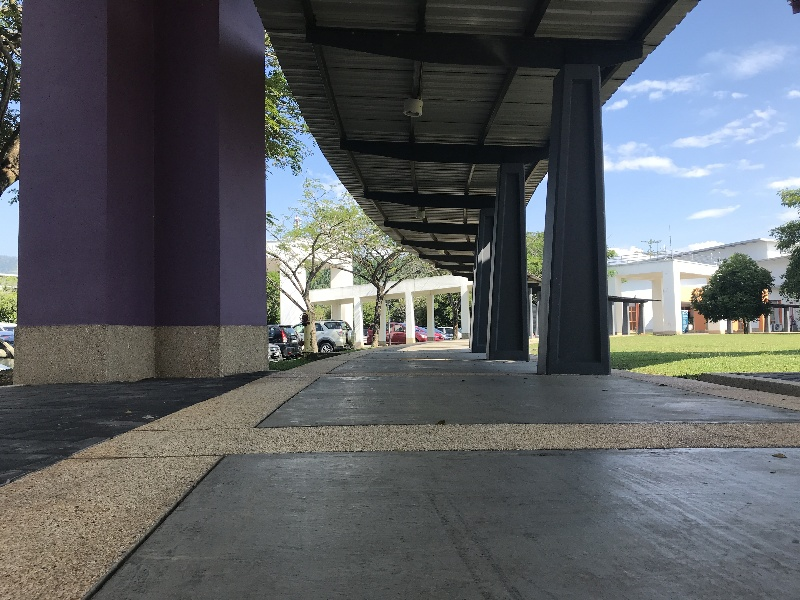pillar: (13, 10, 285, 379), (551, 71, 617, 384), (473, 165, 530, 365)
